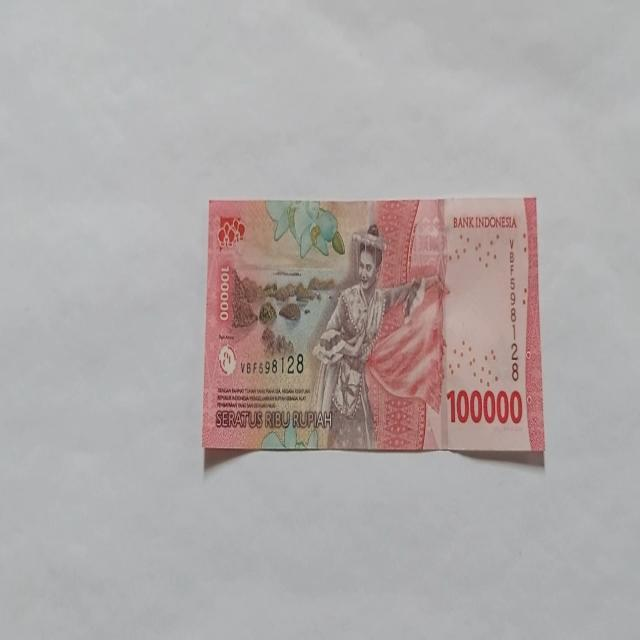seratus ribu rupiah: (202, 195, 544, 457), (308, 222, 444, 451)
